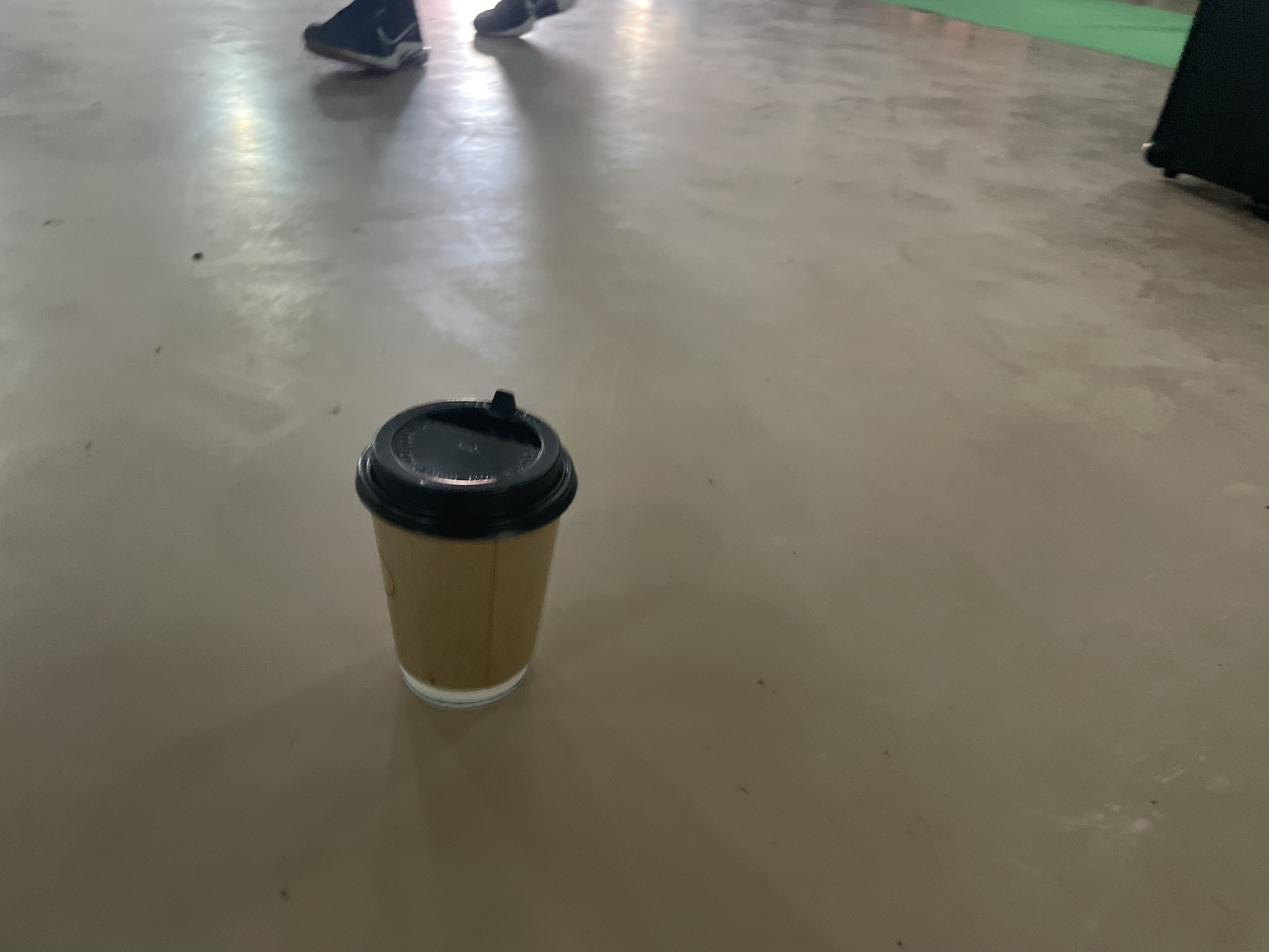cup: (354, 388, 579, 709)
